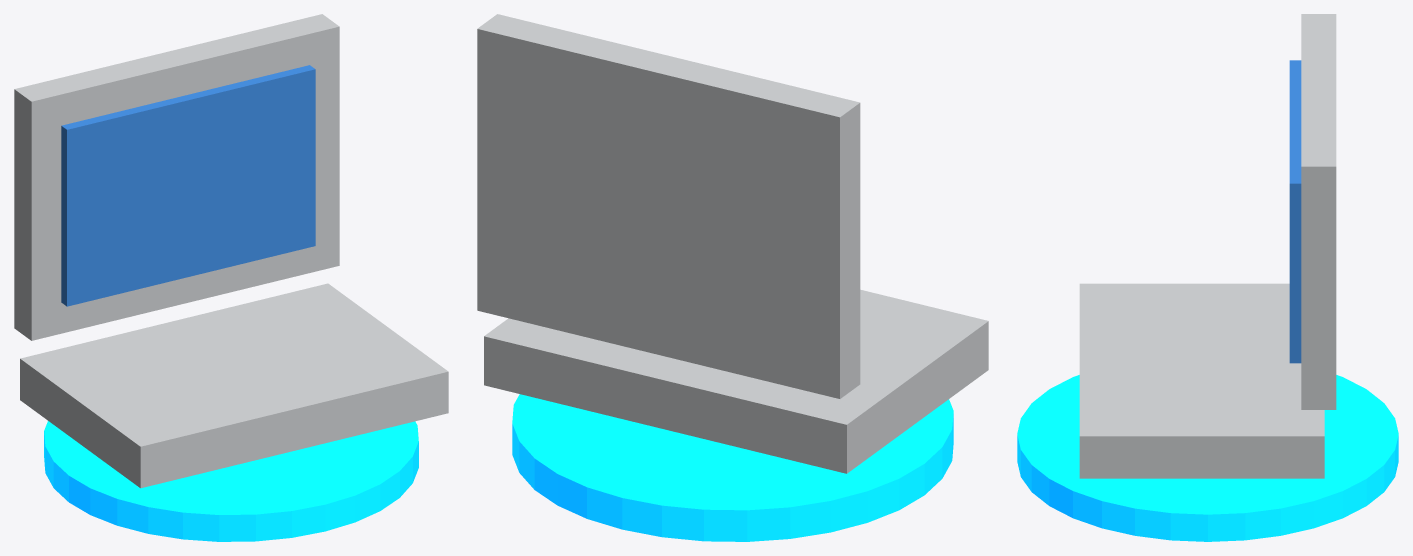
The model's file is news_news_laptop.glb.
3 views of the same model, side by side, from view 1: azimuth 30°, elevation 25°; view 2: azimuth 150°, elevation 25°; view 3: azimuth 270°, elevation 25° (orthographic). The views are drawn at different scales.
Parts seen in each view (by area): view 1: 09_11_Popular_News_News_Laptop_part_01, 09_11_Popular_News_News_Laptop_part_03, 09_11_Popular_News_News_Laptop_part_02, 09_11_Popular_News_News_Laptop_ROOT_base; view 2: 09_11_Popular_News_News_Laptop_part_02, 09_11_Popular_News_News_Laptop_part_01, 09_11_Popular_News_News_Laptop_ROOT_base; view 3: 09_11_Popular_News_News_Laptop_part_01, 09_11_Popular_News_News_Laptop_ROOT_base, 09_11_Popular_News_News_Laptop_part_02, 09_11_Popular_News_News_Laptop_part_03.
Part boxes in pixels (bbox=[...]): 09_11_Popular_News_News_Laptop_part_01: bbox=[20, 283, 448, 488]; 09_11_Popular_News_News_Laptop_part_03: bbox=[61, 65, 315, 306]; 09_11_Popular_News_News_Laptop_part_02: bbox=[14, 14, 339, 340]; 09_11_Popular_News_News_Laptop_ROOT_base: bbox=[44, 421, 418, 541]; 09_11_Popular_News_News_Laptop_part_02: bbox=[477, 14, 860, 398]; 09_11_Popular_News_News_Laptop_part_01: bbox=[484, 289, 988, 473]; 09_11_Popular_News_News_Laptop_ROOT_base: bbox=[512, 394, 953, 541]; 09_11_Popular_News_News_Laptop_part_01: bbox=[1079, 283, 1324, 478]; 09_11_Popular_News_News_Laptop_ROOT_base: bbox=[1017, 375, 1398, 541]; 09_11_Popular_News_News_Laptop_part_02: bbox=[1301, 14, 1336, 409]; 09_11_Popular_News_News_Laptop_part_03: bbox=[1289, 60, 1301, 363].
Bounding box in the file's own units: 0.76 × 0.8152 × 0.76.
